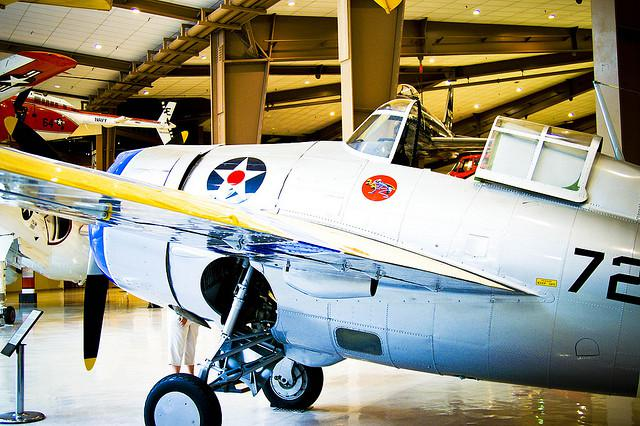Airplane: (2, 84, 640, 422), (0, 52, 179, 145)
